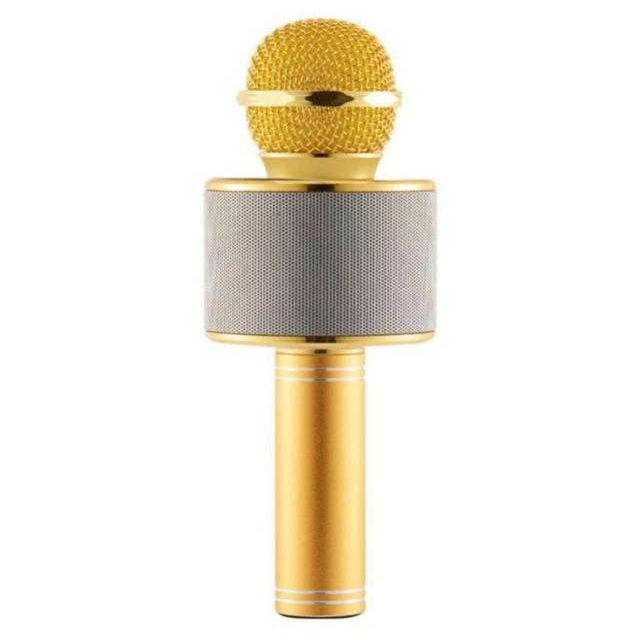microphone: (208, 20, 440, 612)
